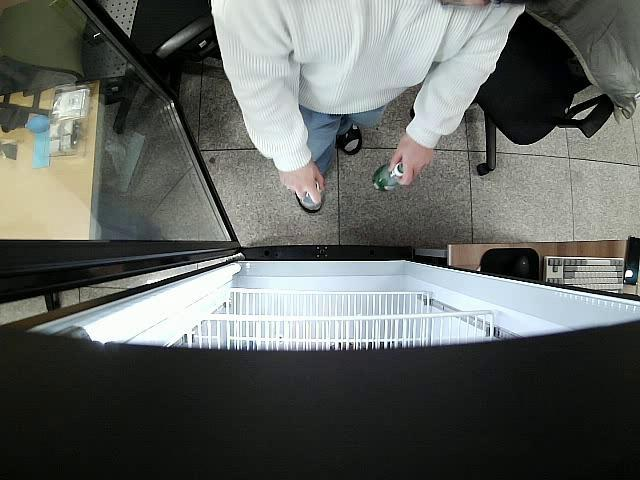18_trevi: (371, 162, 405, 192), (301, 178, 325, 214)
